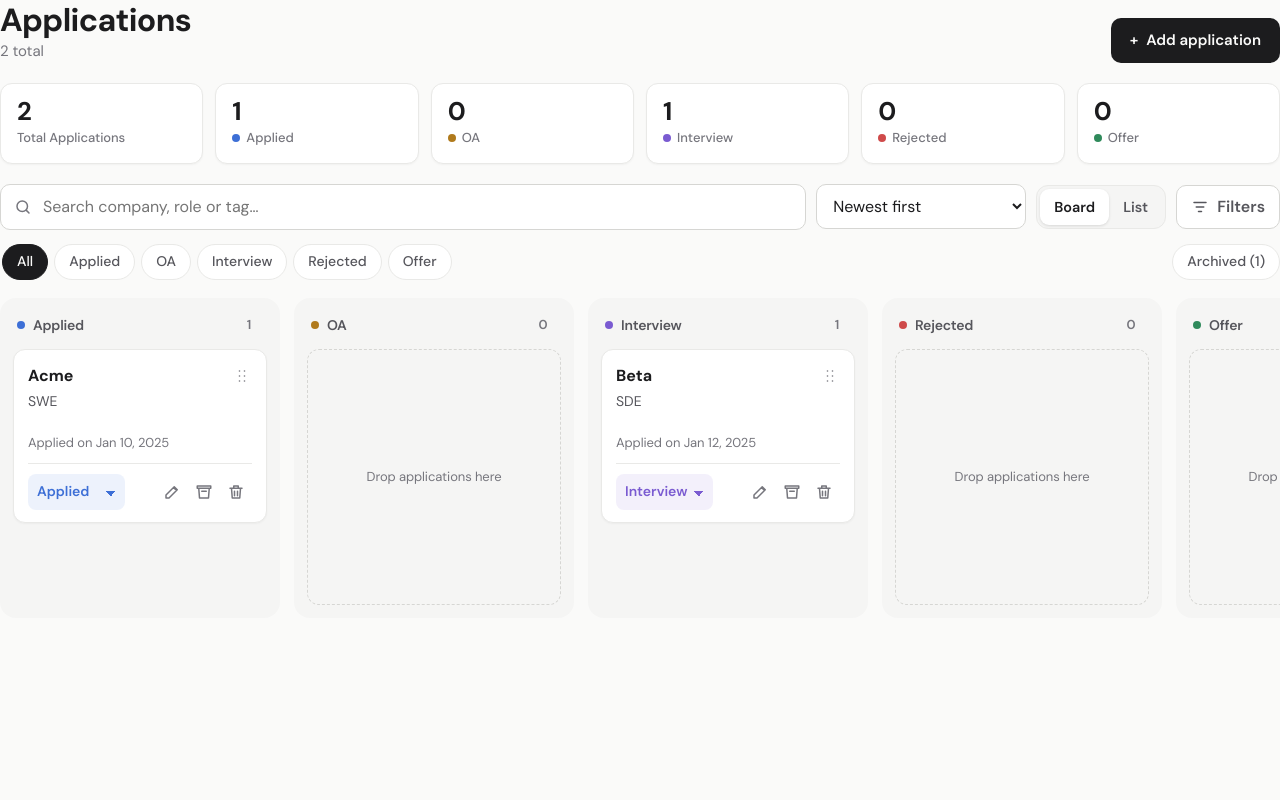
Scenario: Dashboard › opens the add form with inline validation
Expected: the text "Acme" is shown, [28,364,73,389]
Step 1. Click the button "+ Add application" → click(1195, 41), box [1111,18,1279,63]
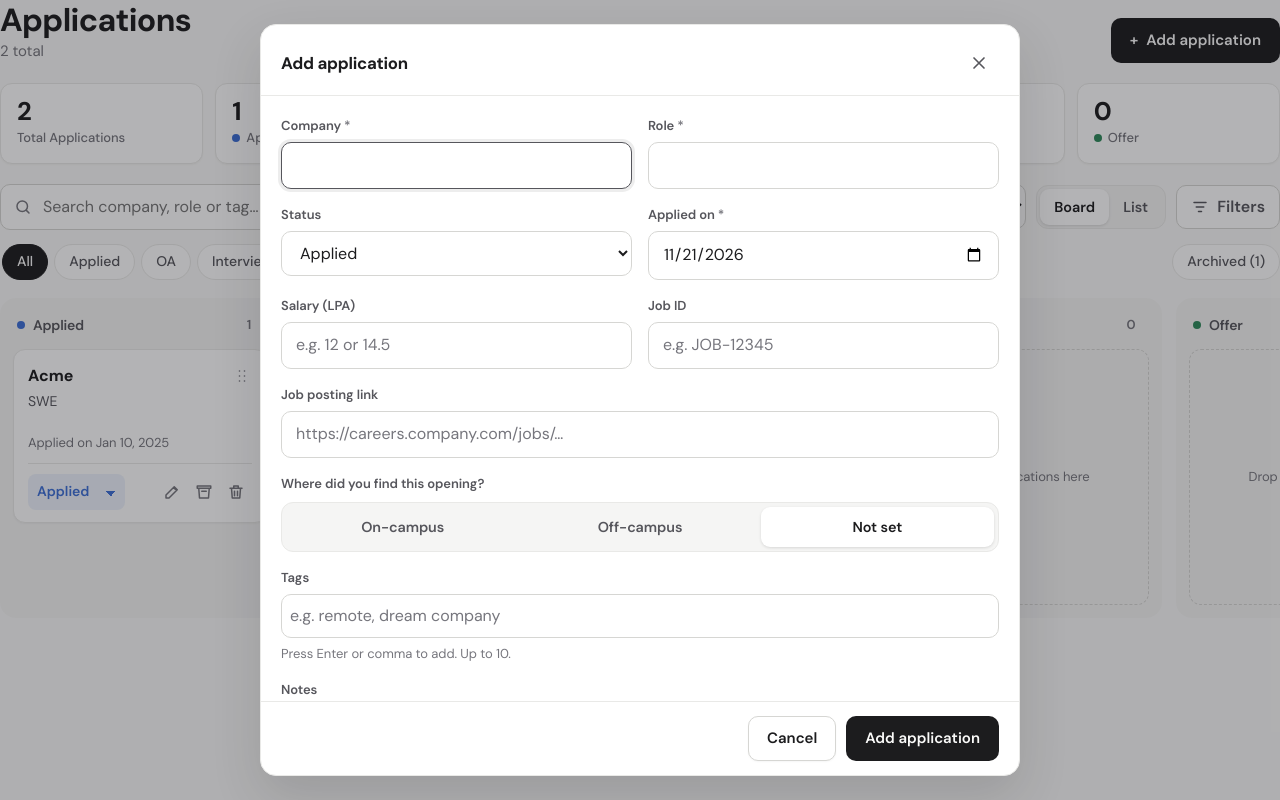
Step 2. Click the button "Add application" → click(923, 738), box [846,716,999,761]
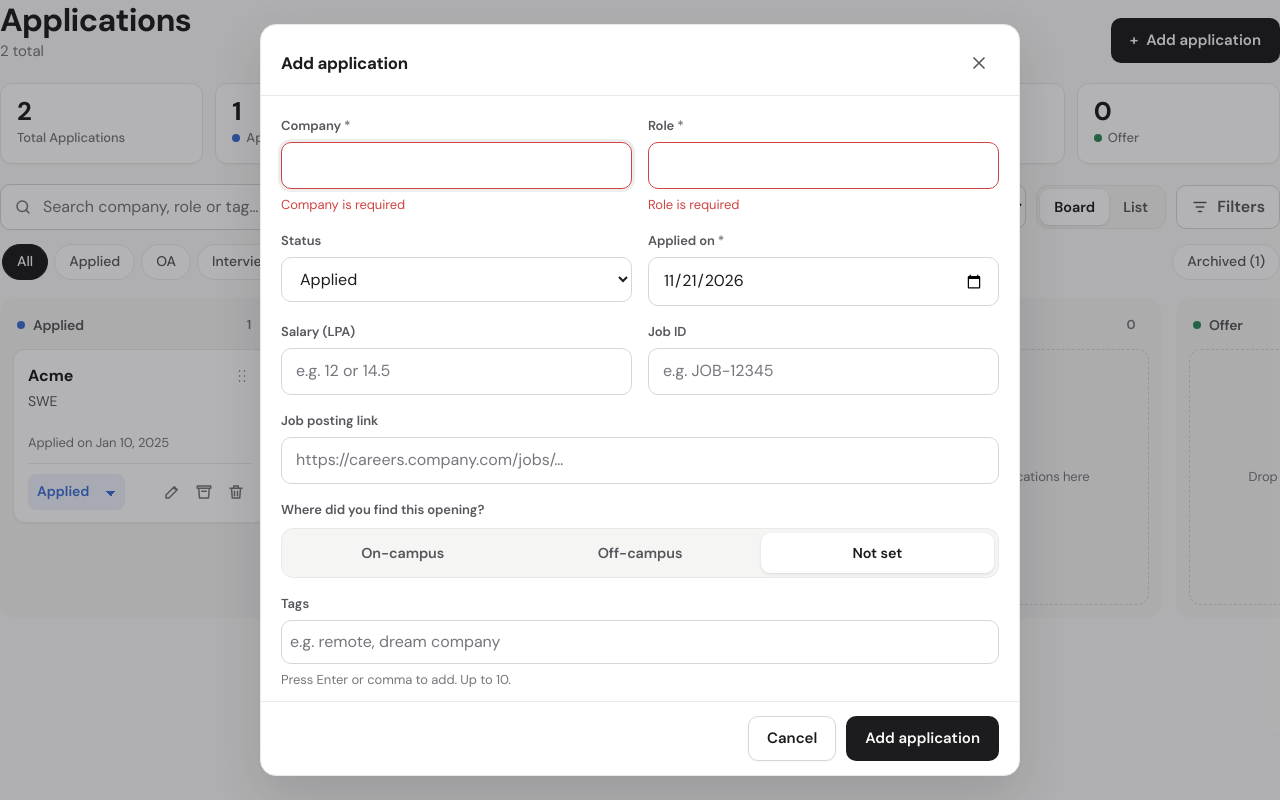
Expected: the text "Company is required" is shown, [281,196,405,213]
